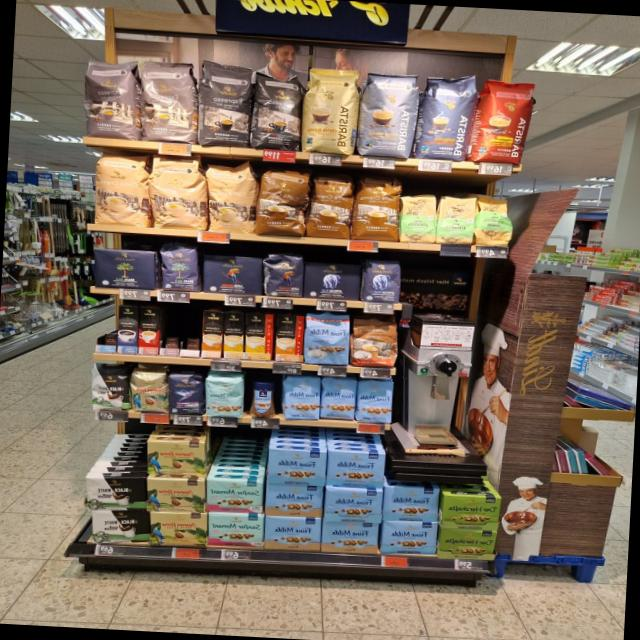AB Bohne: (362, 258, 405, 304)
AB Gemahlen: (303, 260, 362, 302)
Athiopien Bohne: (474, 195, 514, 248)
Athiopien Gemahlen: (436, 196, 476, 246), (400, 192, 438, 244)
BM Bohne: (158, 244, 200, 294)
BM Gemahlen: (91, 247, 159, 290)
BW Bohne: (88, 364, 128, 413)
BW Gemahlen: (80, 472, 147, 511), (89, 506, 150, 544)
Barista CB: (301, 67, 360, 155)
Barista CC: (356, 70, 420, 160)
Barista Espresso: (415, 72, 480, 162)
Barista Kolumbien: (468, 75, 538, 164)
C Fino Bohne: (166, 369, 204, 416)
CC Mild: (146, 152, 206, 232), (92, 151, 152, 227), (204, 158, 258, 235)
CC Vollmundig: (349, 318, 400, 370)
CC Vollmundig 36 Pads: (254, 168, 310, 240), (352, 176, 402, 244), (307, 173, 355, 241)
Colombia BB Bohne: (128, 368, 168, 414)
Colombia BB Gemahlen: (146, 438, 206, 478), (146, 475, 206, 514), (149, 511, 208, 548)
Empty Shelf: (181, 310, 203, 350), (160, 308, 182, 348)
Espresso Kraftig: (250, 70, 306, 150)
Espresso M Art: (138, 58, 200, 144), (80, 54, 140, 140)
Espresso S Art: (196, 61, 255, 148)
FM 36 Pads: (304, 312, 352, 366)
FM Bohne: (355, 378, 396, 424), (282, 374, 322, 420), (320, 376, 358, 422)
FM Gemahlen: (266, 448, 330, 487), (325, 450, 388, 489), (382, 485, 440, 524), (380, 520, 439, 558), (264, 514, 321, 552), (324, 488, 384, 524), (264, 484, 324, 520), (320, 520, 380, 555)
FM Instant: (249, 378, 277, 419)
Herzhatfe Mundig: (440, 493, 504, 532), (438, 527, 499, 562)
LG Bohne: (262, 252, 305, 300)
LG Gemahlen: (200, 252, 266, 296)
SM Bohne: (205, 374, 244, 419)
SM Gemahlen: (204, 478, 263, 514), (206, 512, 264, 548)
Simo CCMild: (245, 312, 274, 360)
Simo CCMild bigpack: (223, 312, 245, 359)
Simo CCVollmundig: (275, 315, 304, 362)
Simo CCVollmundig bigpack: (201, 310, 224, 360)
Simo Es Brazil: (138, 306, 161, 355)
Simo Es Kraft: (116, 306, 138, 354)
